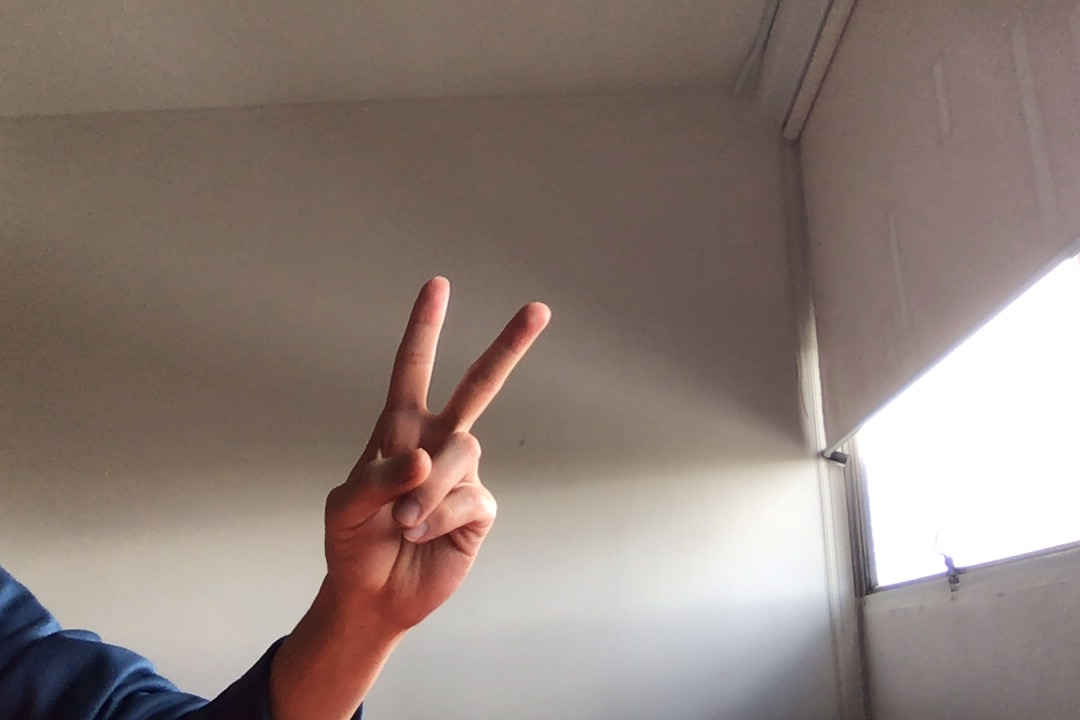peacesign: (309, 260, 559, 633)
